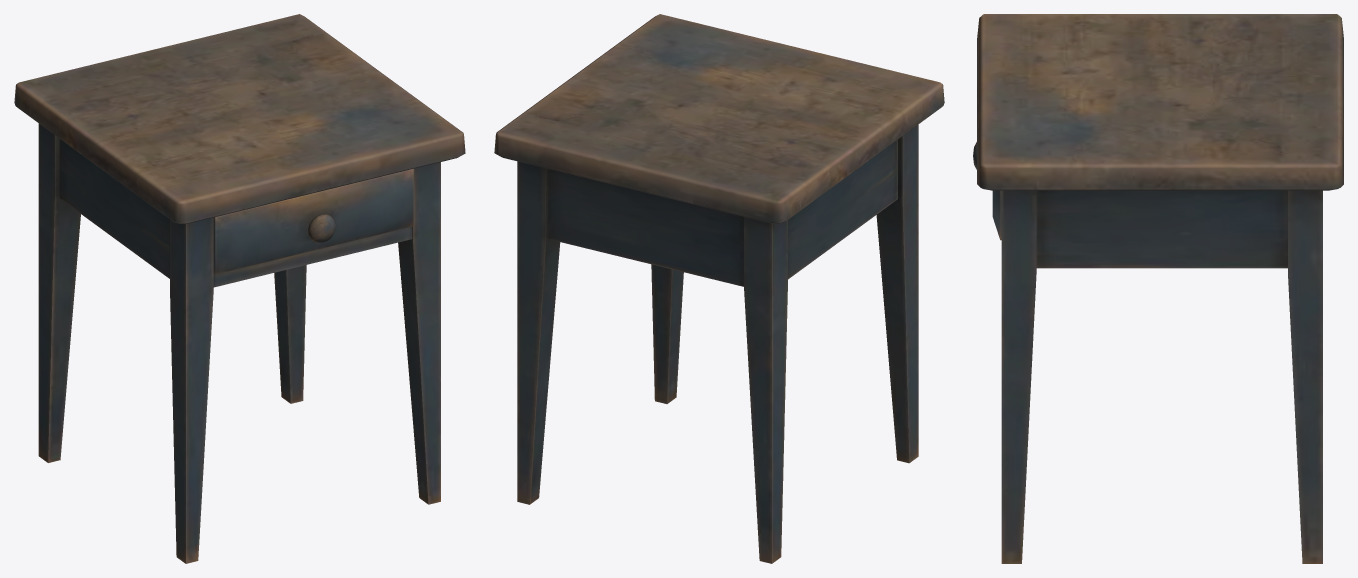
File: bedside-painted.glb
The picture shows the model from 3 angles, left to right: view 1: azimuth 30°, elevation 25°; view 2: azimuth 150°, elevation 25°; view 3: azimuth 270°, elevation 25°; orthographic projection. The views are drawn at different scales.
Visible parts, largest first — view 1: painted_wooden_nightstand, painted_wooden_nightstand_drawer; view 2: painted_wooden_nightstand; view 3: painted_wooden_nightstand, painted_wooden_nightstand_drawer.
Boxes of the visible parts, left/top/right/bottom form: painted_wooden_nightstand: left=14, top=14, right=465, bottom=563; painted_wooden_nightstand_drawer: left=213, top=168, right=413, bottom=274; painted_wooden_nightstand: left=494, top=14, right=944, bottom=563; painted_wooden_nightstand: left=977, top=14, right=1343, bottom=563; painted_wooden_nightstand_drawer: left=973, top=142, right=1001, bottom=240.
Bounding box in the file's own units: 0.5802 × 0.7078 × 0.585.
Materials: 1 (1 with a texture image).
